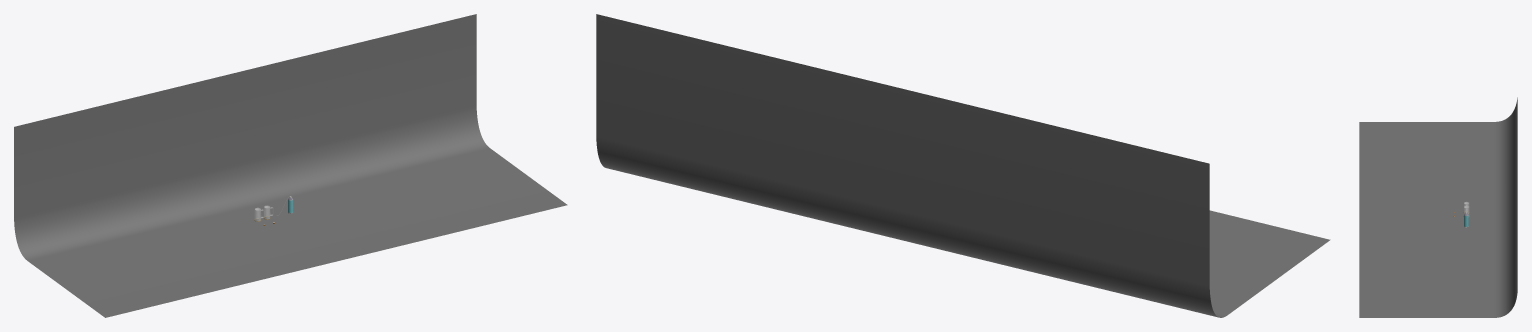
3 renders of one model, left to right at view 1: azimuth 30°, elevation 25°; view 2: azimuth 150°, elevation 25°; view 3: azimuth 270°, elevation 25°, orthographic. The views are drawn at different scales.
Parts seen in each view (by area): view 1: Plane; view 2: Plane; view 3: Plane.
Boxes of the visible parts, x1,y1,x2,y2 form: Plane: (14, 14, 567, 317); Plane: (596, 14, 1330, 317); Plane: (1359, 97, 1517, 317).
Size of the model in its own units: 68.61 by 17.64 by 23.46.
Materials: 6 (2 with a texture image).
